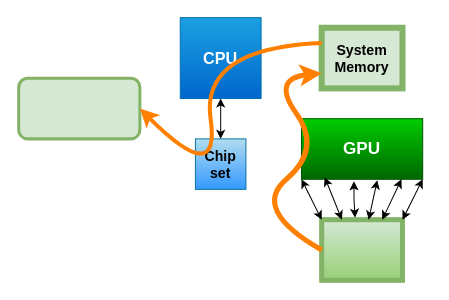
Some shapes in this 449 by 300 pixel diagram are drawn without their labels. The shapes that lost their labels are listed below. From the top down, each one's box as (x1, y1, x2, y2) in pixels, then its label:
(17, 76, 141, 140): InfiniBand
(319, 217, 405, 282): GPU Memory
